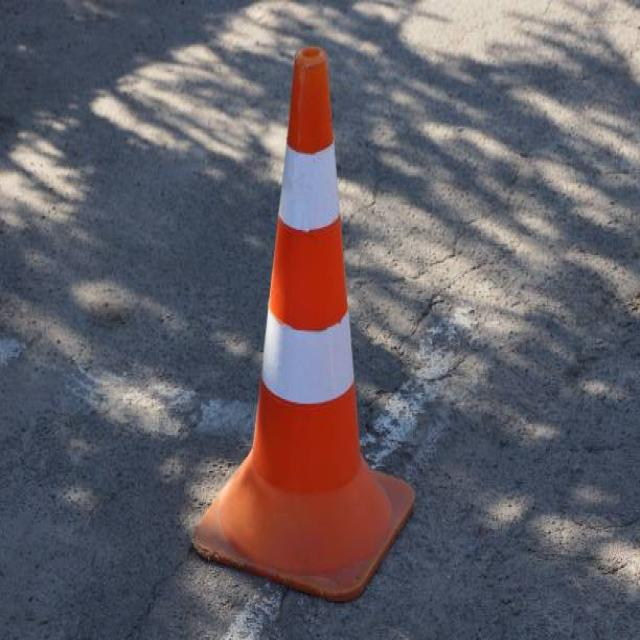Traffic Cone: (169, 8, 454, 640)
